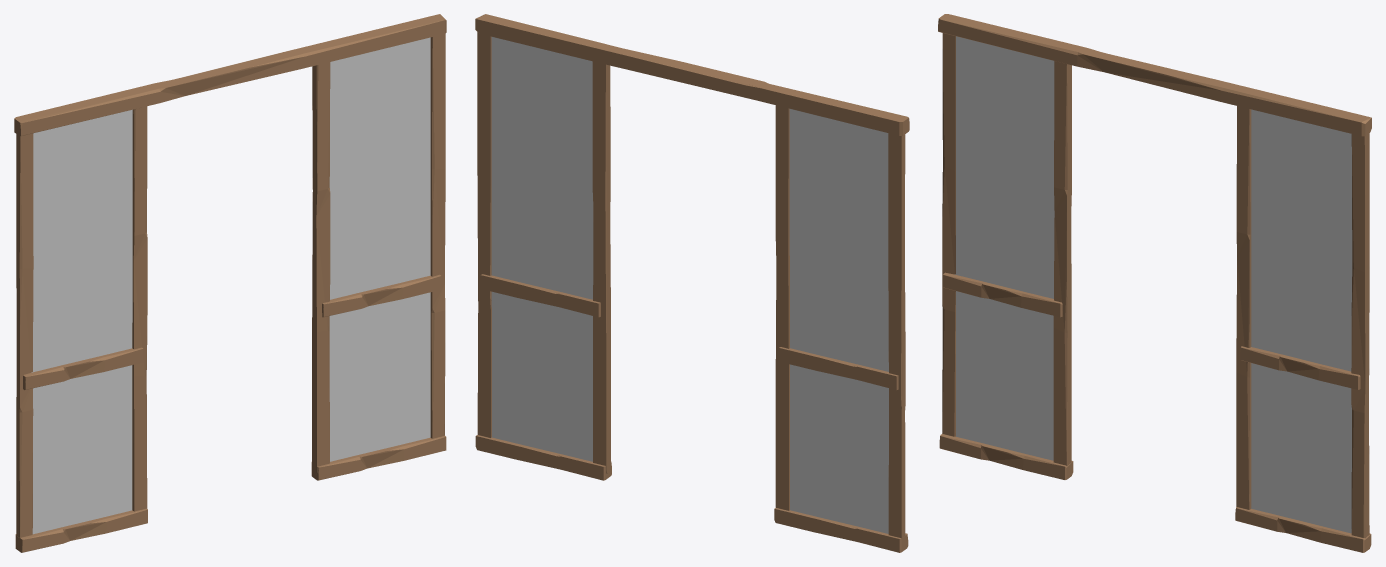
File: PK_Veranda_Glass_Wall.fbx
The picture shows the model from 3 angles, left to right: view 1: azimuth 30°, elevation 25°; view 2: azimuth 150°, elevation 25°; view 3: azimuth 330°, elevation 25°; orthographic projection.
Parts seen in each view (by area): view 1: PK_Veranda_Glass_Wall; view 2: PK_Veranda_Glass_Wall; view 3: PK_Veranda_Glass_Wall.
Boxes of the visible parts, <box> form: PK_Veranda_Glass_Wall: <box>14,14,446,552</box>; PK_Veranda_Glass_Wall: <box>475,14,909,552</box>; PK_Veranda_Glass_Wall: <box>938,14,1371,552</box>.
Bounding box in the file's own units: 208 × 201 × 6.45.
